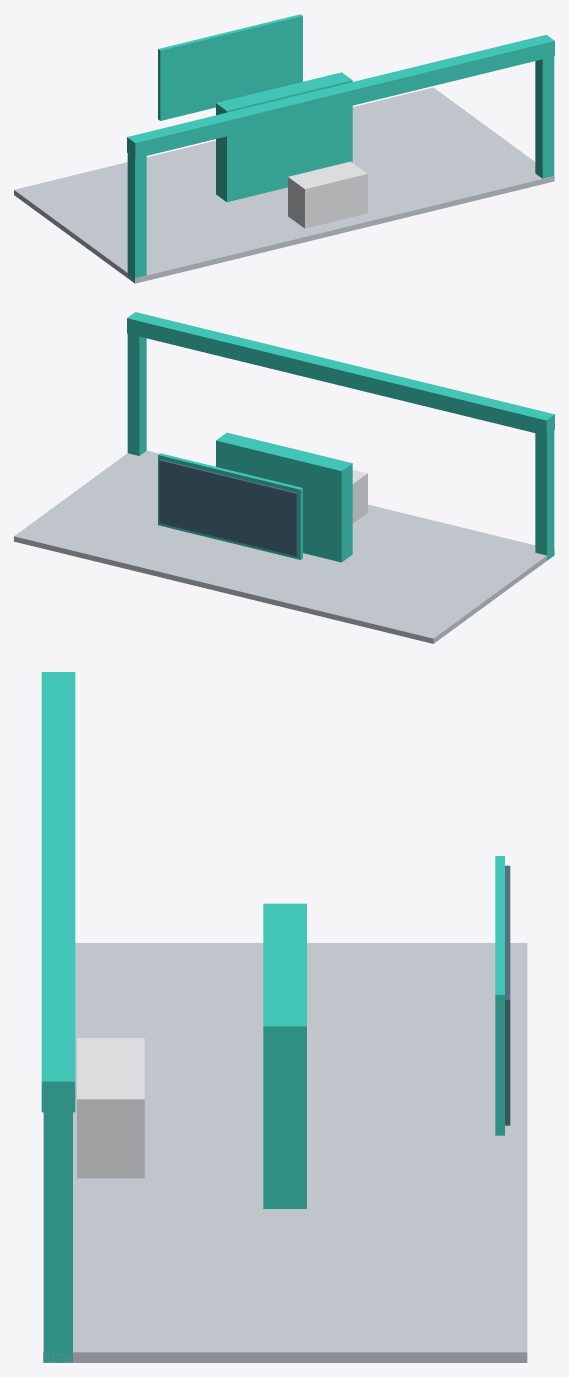
3 views of the same model, one above another, from view 1: azimuth 30°, elevation 25°; view 2: azimuth 150°, elevation 25°; view 3: azimuth 270°, elevation 25° (orthographic). The views are drawn at different scales.
Parts seen in each view (by area): view 1: Exhibition Booth Concept; view 2: Exhibition Booth Concept; view 3: Exhibition Booth Concept.
Boxes of the visible parts, x1,y1,x2,y2 form: Exhibition Booth Concept: (14, 14, 554, 283); Exhibition Booth Concept: (14, 312, 554, 643); Exhibition Booth Concept: (41, 672, 527, 1362).
Bounding box in the file's own units: 10 × 3.2 × 5.02.
